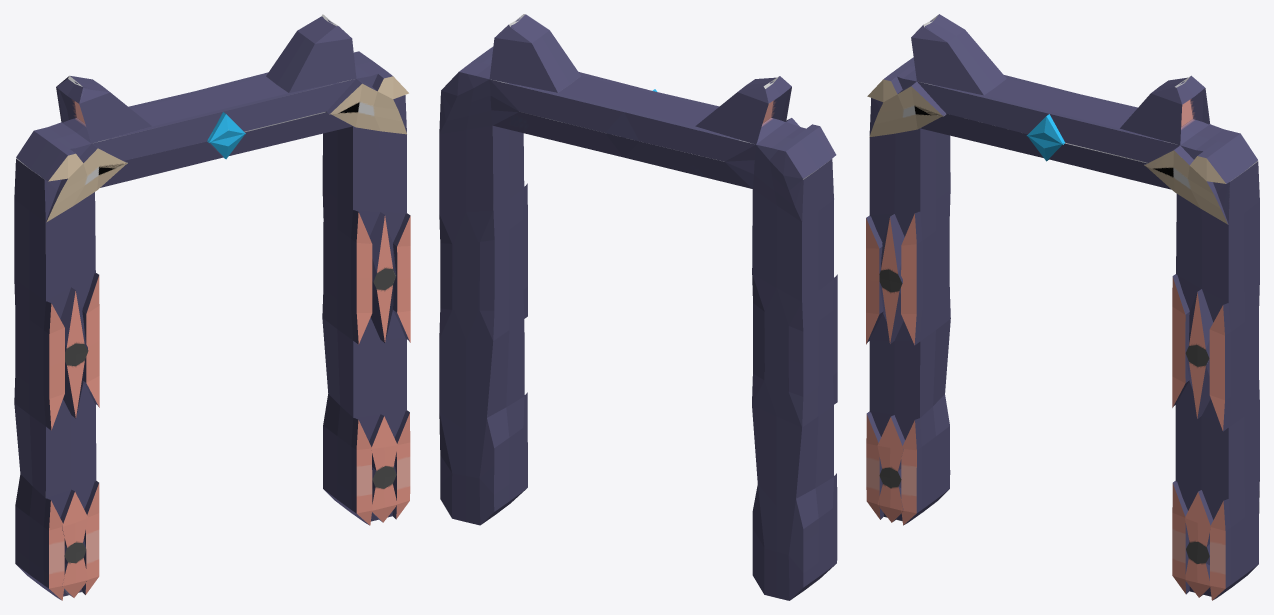
The model's file is Portal.fbx.
3 renders of one model, left to right at view 1: azimuth 30°, elevation 25°; view 2: azimuth 150°, elevation 25°; view 3: azimuth 330°, elevation 25°, orthographic.
Visible parts, largest first — view 1: Cube.004; view 2: Cube.004; view 3: Cube.004.
Boxes of the visible parts, x1,y1,x2,y2 form: Cube.004: (14,14,410,600); Cube.004: (439,14,837,600); Cube.004: (866,14,1259,600).
Bounding box in the file's own units: 208 × 273 × 36.79.
Materials: 1 (1 with a texture image).
